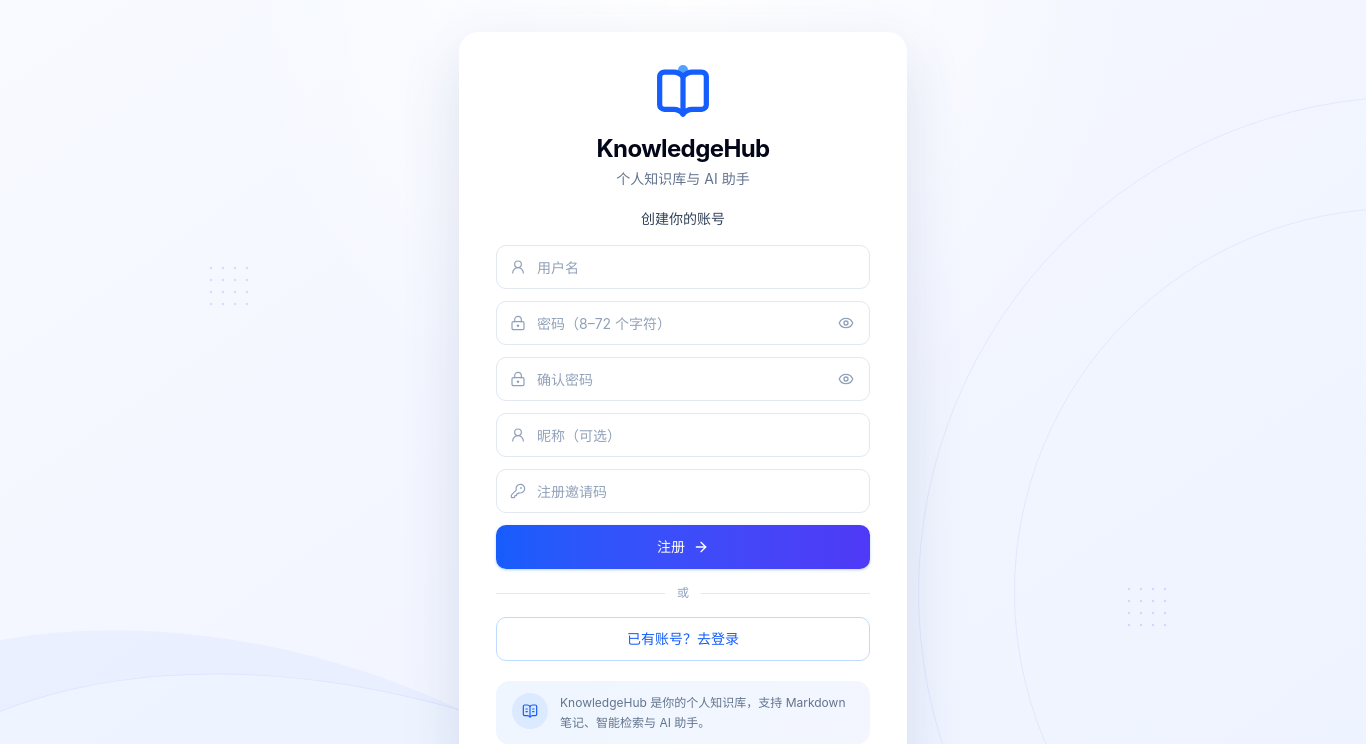
Test: registration flow › shows backend registration errors without leaving the form
Type "new_user" into the field labelled "用户名" at point(683, 267), box [496,245,870,289]
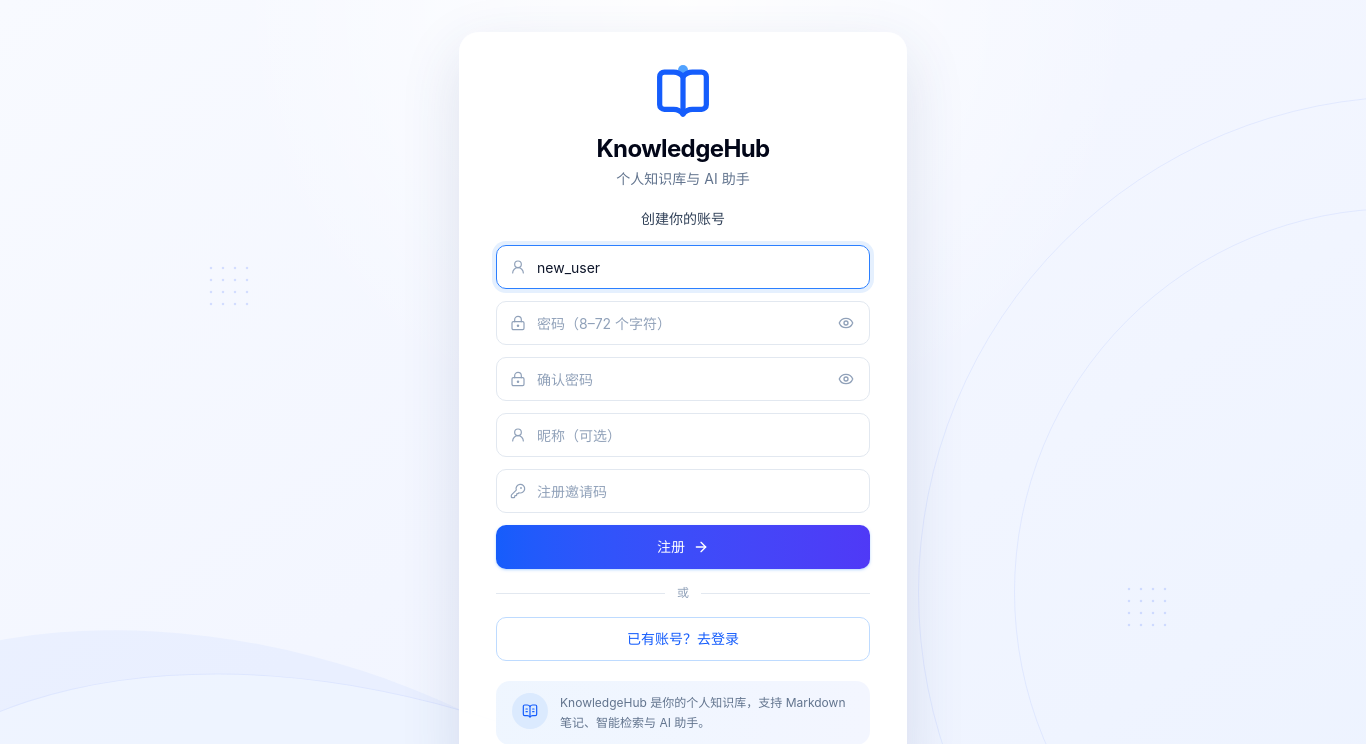
Type "password123" into the password field labelled "密码" at point(683, 323), box [496,301,870,345]
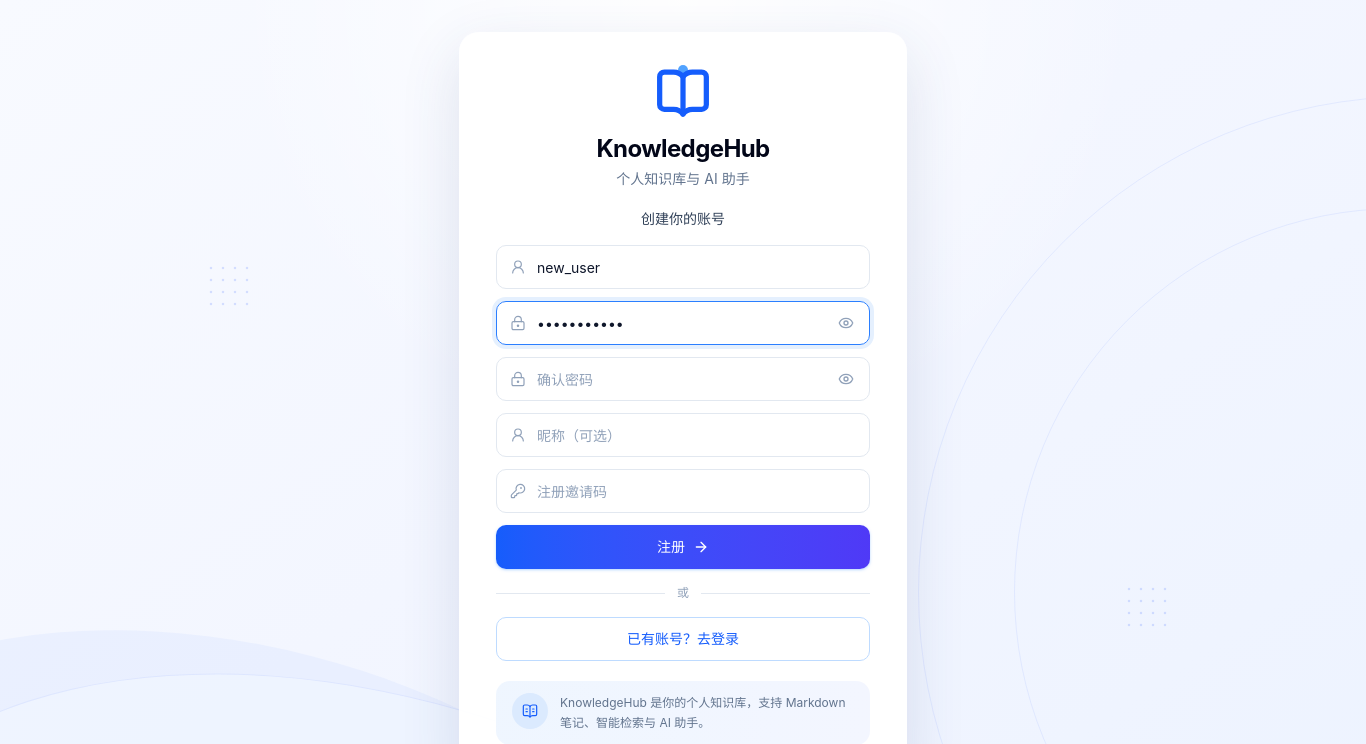
Type "password123" into the password field labelled "确认密码" at point(683, 379), box [496,357,870,401]
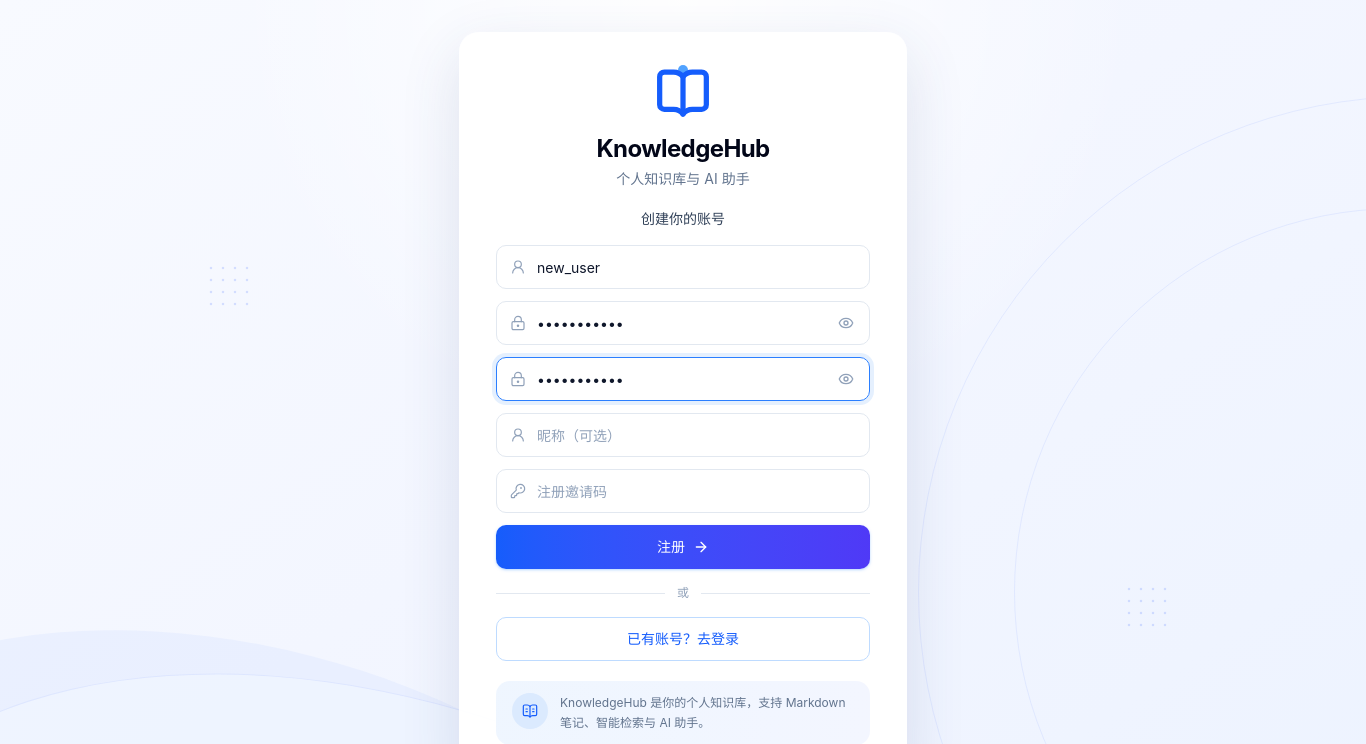
Type "New User" into the field labelled "昵称" at point(683, 435), box [496,413,870,457]
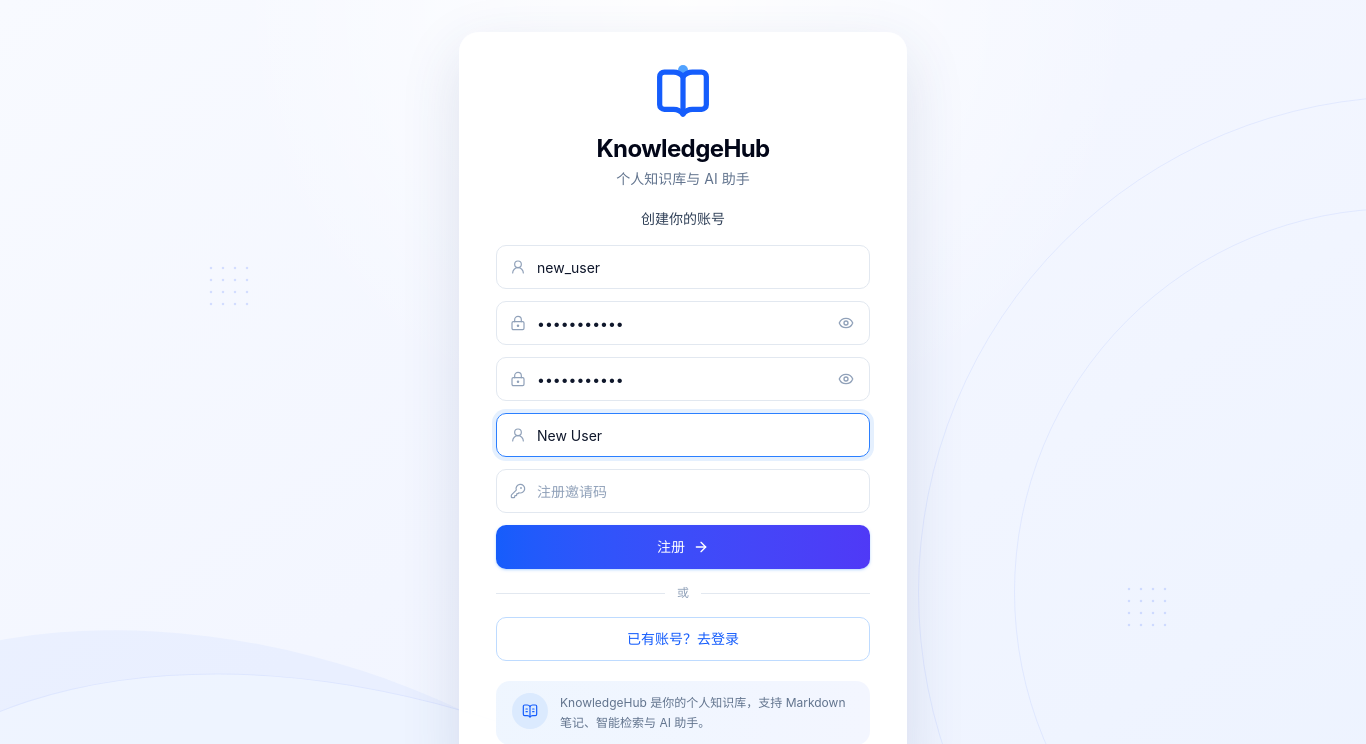
Type "invite-code" into the field labelled "邀请码" at point(683, 491), box [496,469,870,513]
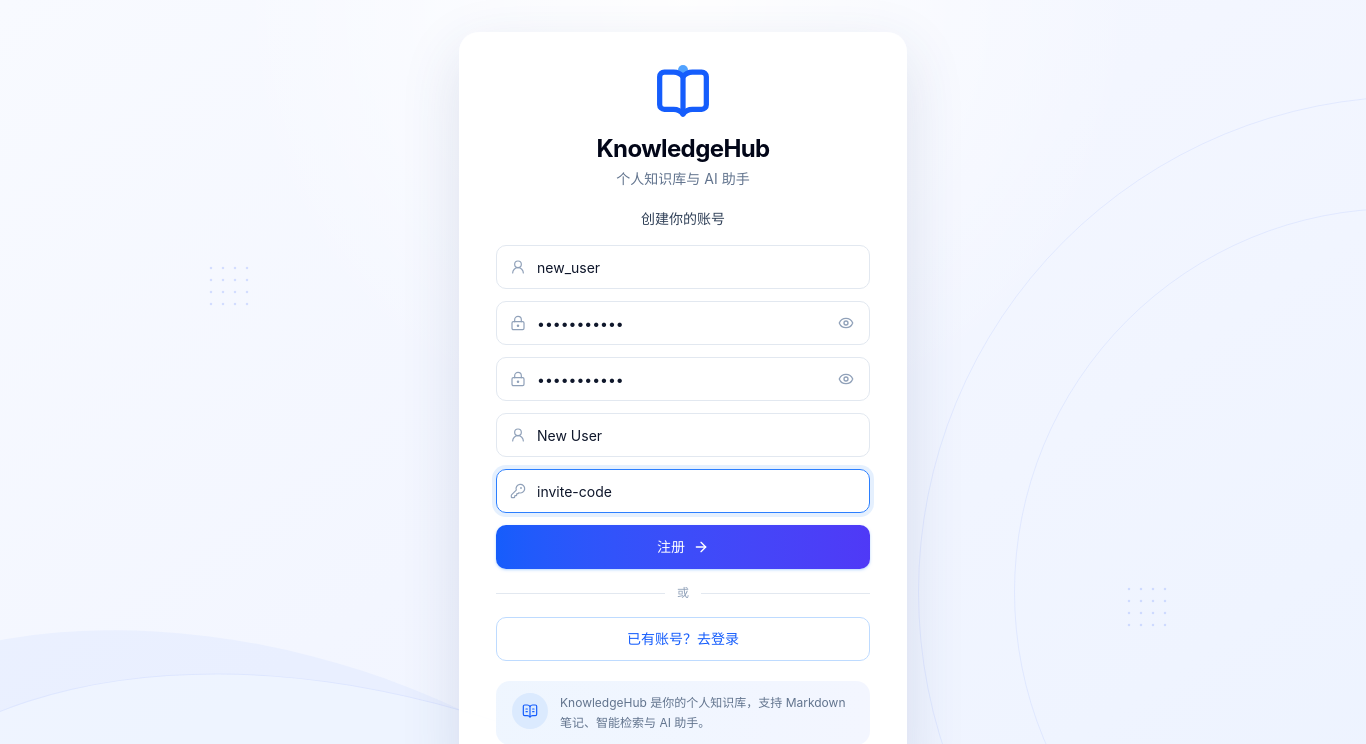
Click the button "注册" at point(683, 547), box [496,525,870,569]
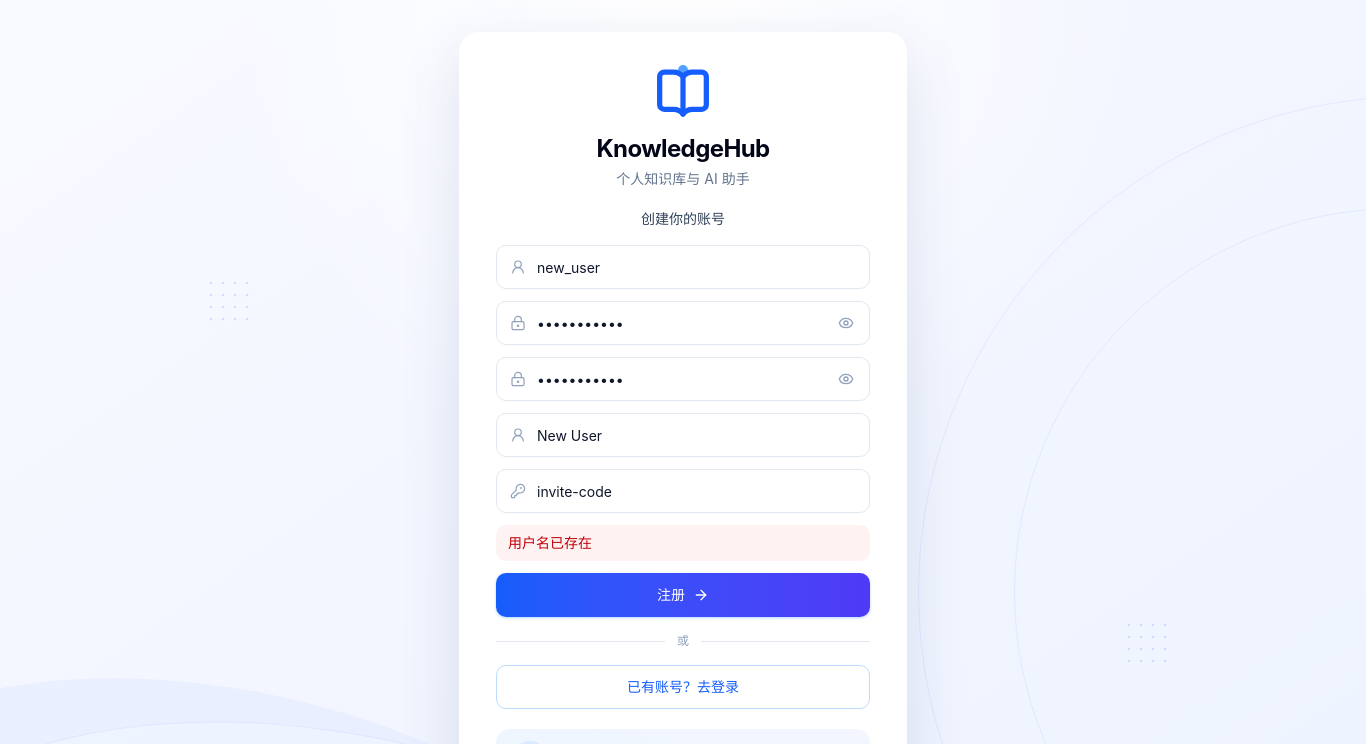
Expected: the heading "创建你的账号" is shown, [641,210,725,227]
Expected: the message reads "用户名已存在", [508,534,592,551]
